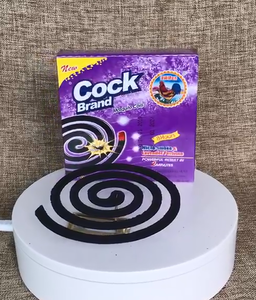Open-Flame-Hazard: (24, 162, 195, 250)
